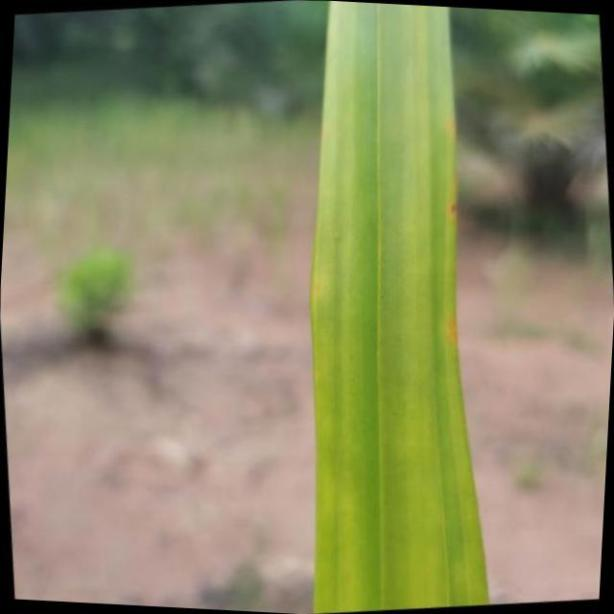nitrogen: (308, 0, 492, 614)
